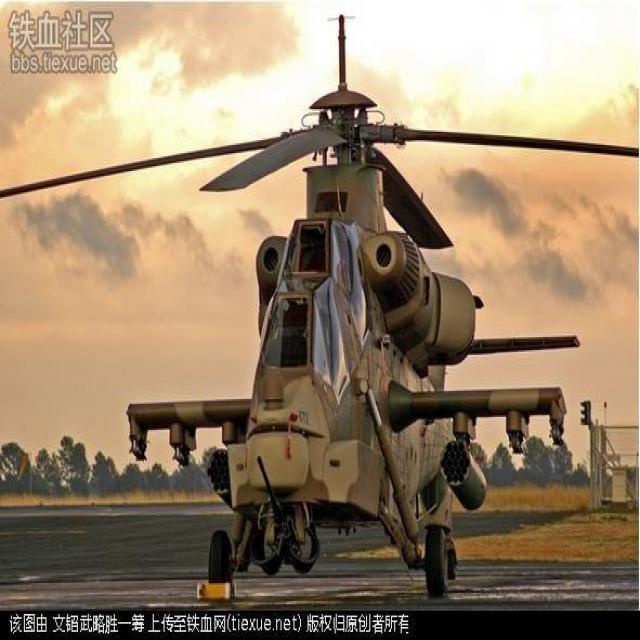MIL_HELO: (12, 0, 640, 598)
